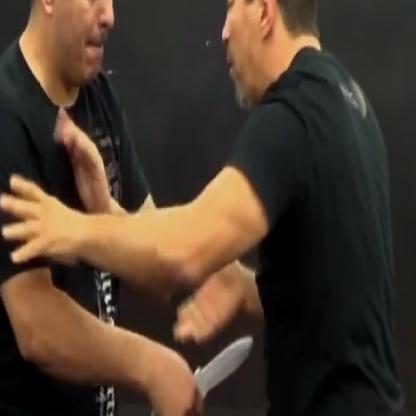knife: (144, 323, 257, 415)
